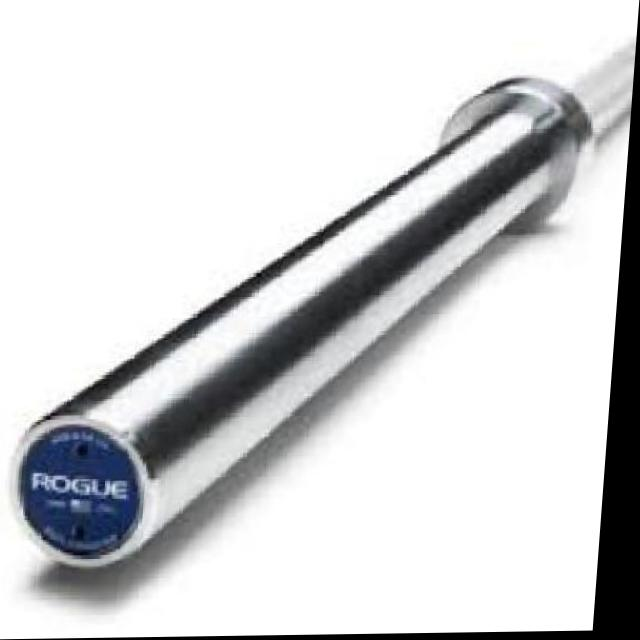barbell: (1, 73, 604, 595)
